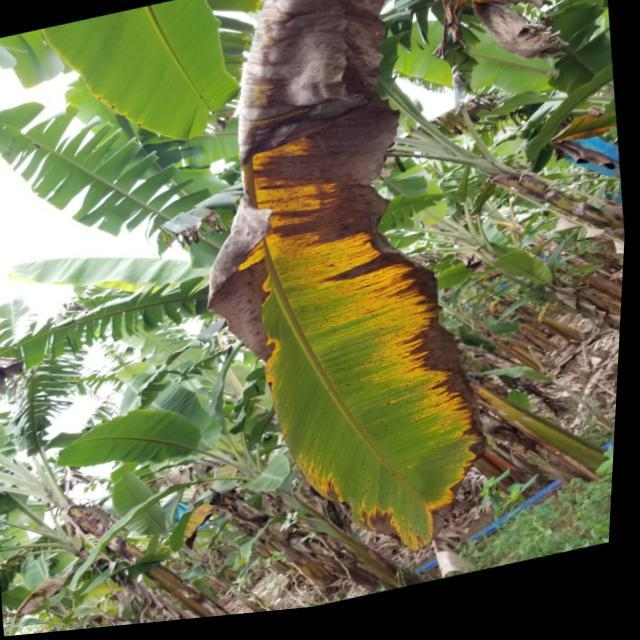Early_rust: (135, 41, 519, 557), (545, 78, 620, 184)
